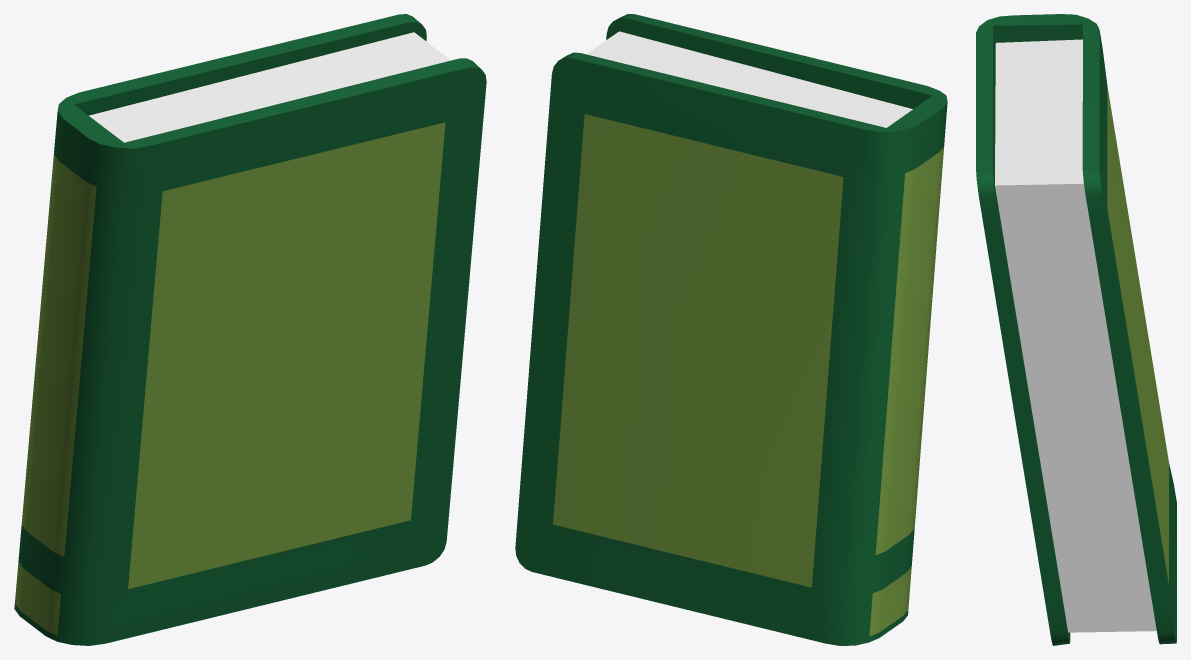
The model's file is book_10.fbx.
The picture shows the model from 3 angles, left to right: view 1: azimuth 30°, elevation 25°; view 2: azimuth 150°, elevation 25°; view 3: azimuth 270°, elevation 25°; orthographic projection. The views are drawn at different scales.
Parts seen in each view (by area): view 1: book_10; view 2: book_10; view 3: book_10.
Part boxes in pixels (<box>): book_10: <box>14,14,486,645</box>; book_10: <box>515,14,947,645</box>; book_10: <box>976,14,1176,645</box>.
Size of the model in its own units: 0.2568 by 0.346 by 0.1325.
